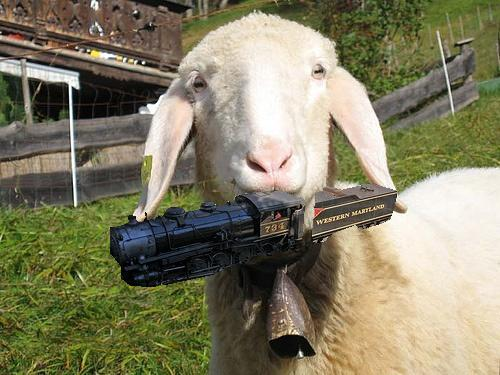tampered: (111, 184, 397, 287)
